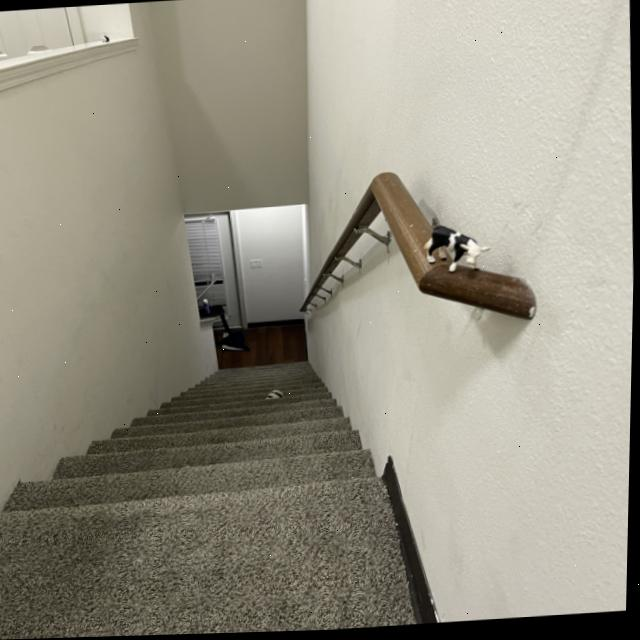cow: (420, 224, 492, 285)
